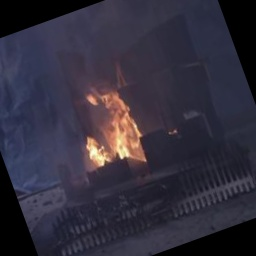fire: (54, 70, 165, 192)
